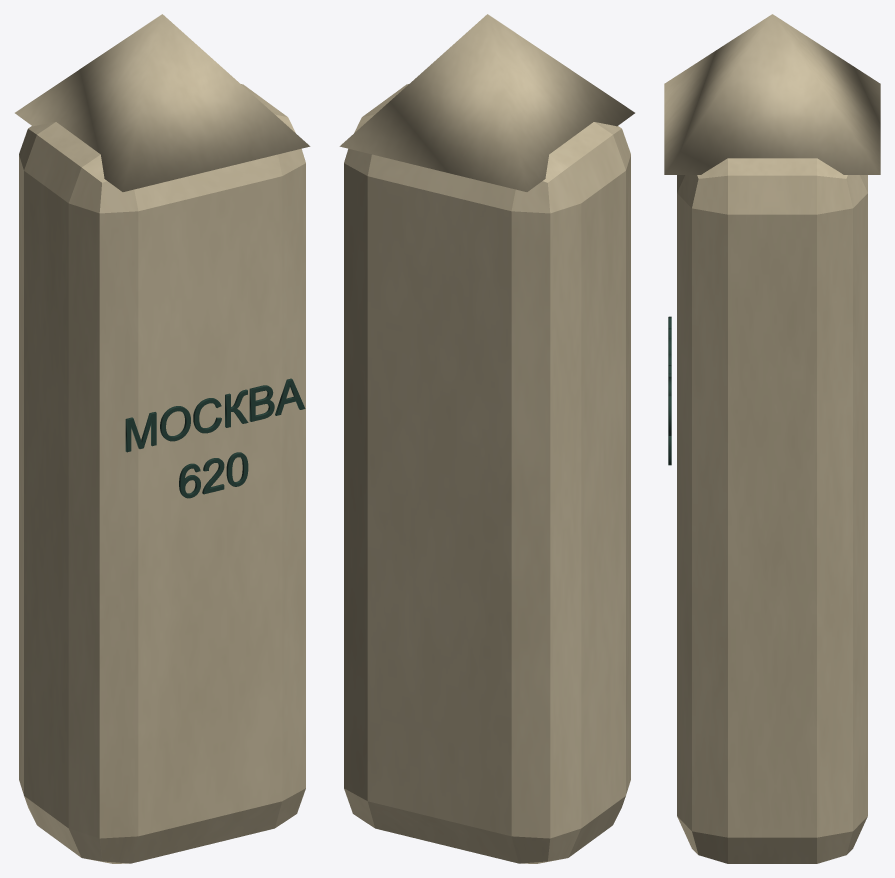
File: Prop_Milestone_01_LOD0.fbx
3 renders of one model, left to right at view 1: azimuth 30°, elevation 25°; view 2: azimuth 150°, elevation 25°; view 3: azimuth 270°, elevation 25°, orthographic.
Visible parts, largest first — view 1: Prop_Milestone_01_OPT_Merged_ENV_Plaster_Ochre_OPT_DATA, Prop_Milestone_01_Text_OPT; view 2: Prop_Milestone_01_OPT_Merged_ENV_Plaster_Ochre_OPT_DATA; view 3: Prop_Milestone_01_OPT_Merged_ENV_Plaster_Ochre_OPT_DATA, Prop_Milestone_01_Text_OPT.
Boxes of the visible parts, left/top/right/bottom form: Prop_Milestone_01_OPT_Merged_ENV_Plaster_Ochre_OPT_DATA: left=15, top=14, right=310, bottom=863; Prop_Milestone_01_Text_OPT: left=125, top=378, right=305, bottom=498; Prop_Milestone_01_OPT_Merged_ENV_Plaster_Ochre_OPT_DATA: left=339, top=14, right=634, bottom=863; Prop_Milestone_01_OPT_Merged_ENV_Plaster_Ochre_OPT_DATA: left=664, top=14, right=880, bottom=863; Prop_Milestone_01_Text_OPT: left=668, top=316, right=671, bottom=465.
Size of the model in its own units: 42 by 141 by 33.94.
2 materials, 1 textured.
